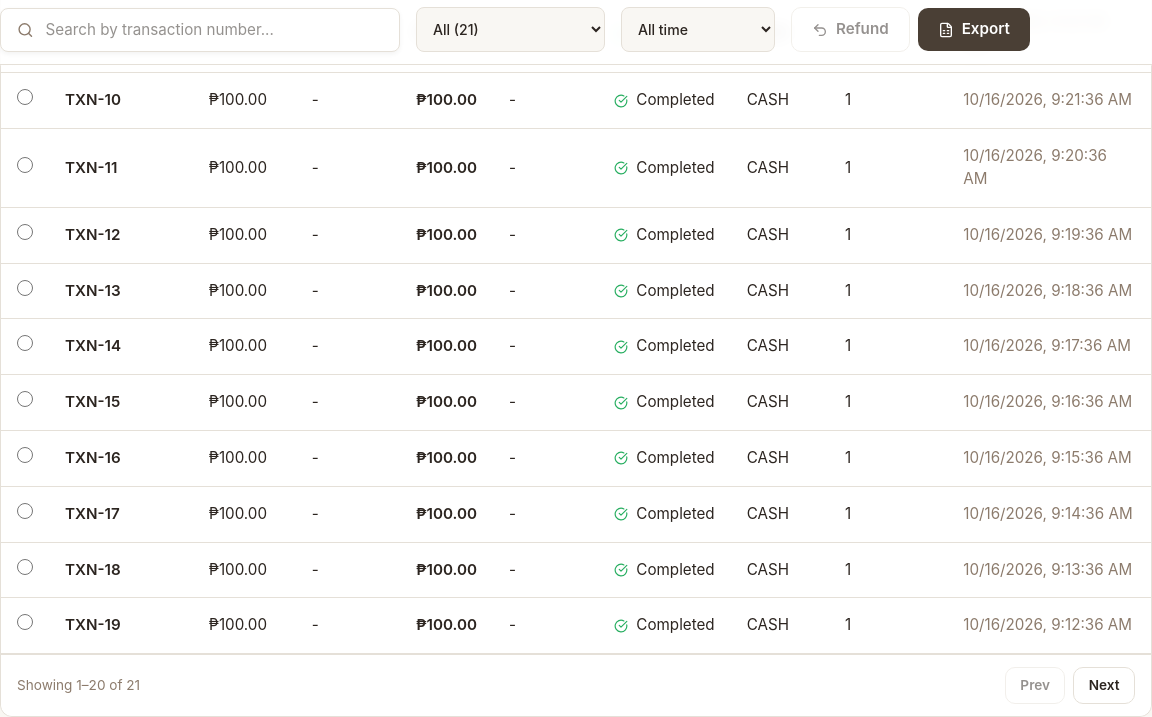
Scenario: OrderHistoryPage refunds › should paginate at twenty rows and reset the page on search
(page scrolled)
Expected: the text with test id "txn-pager-count" reads "Showing 1–20 of 21", [17,675,140,696]
Expected: the button with test id "txn-prev" is disabled, [1005,667,1065,704]
Click the button with test id "txn-next".
click(1104, 686)  # box [1073,667,1135,704]
(page scrolled)
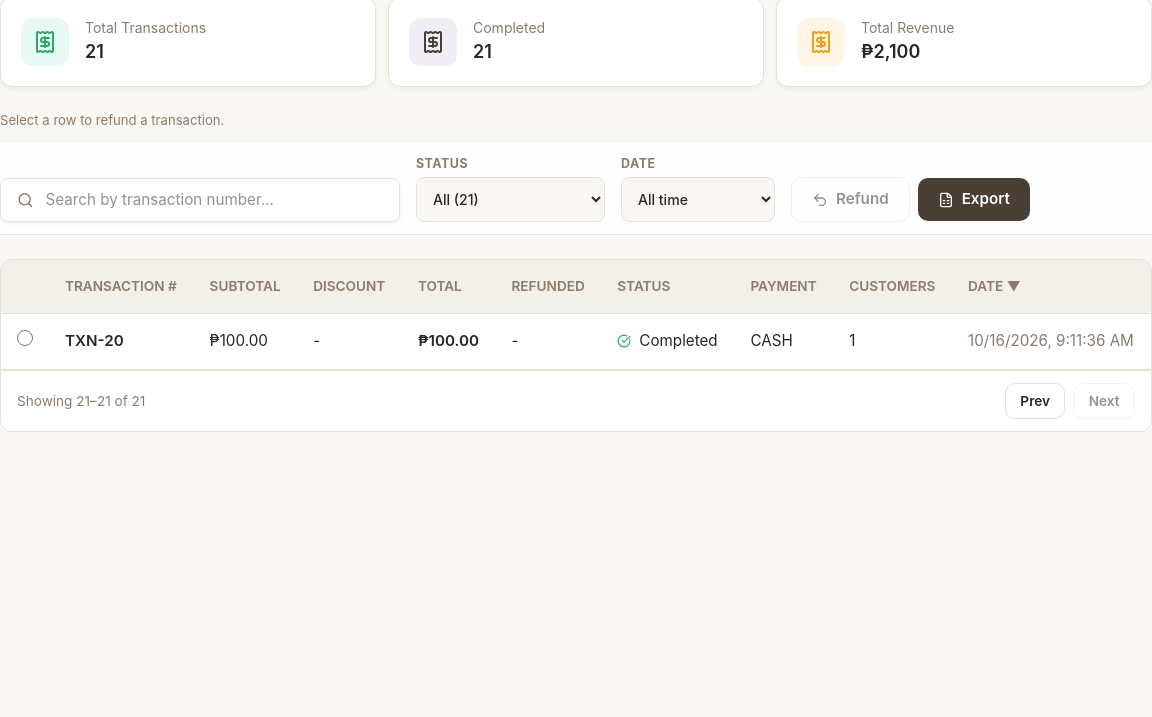
Expected: the text with test id "txn-pager-count" reads "Showing 21–21 of 21", [17,391,145,411]
Expected: the row with test id "order-row-x20" is shown, [1,313,1151,369]
# Selection by id works on page two.
Click the radio button with test id "select-order-x20".
click(25, 338)  # box [17,330,33,346]
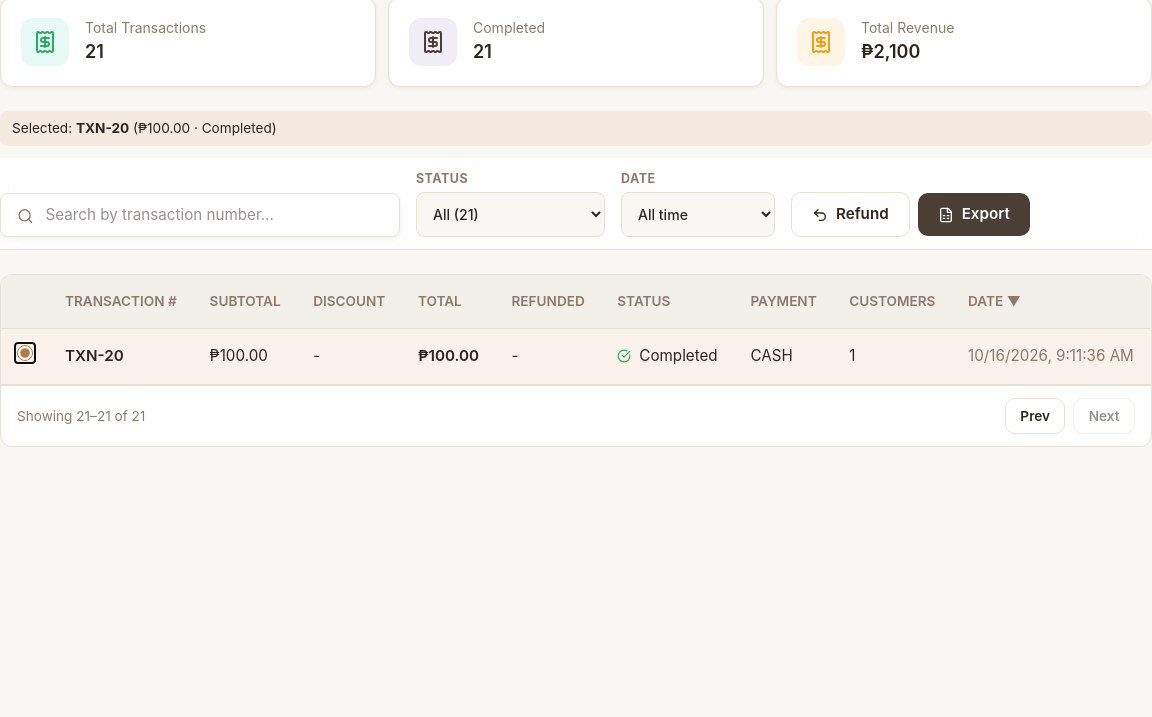
Expected: the button with test id "toolbar-refund-btn" is enabled, [791,192,910,238]
# A new search restarts at page one.
Type "TXN-1" into the field with placeholder "Search by transaction number...".
click(214, 216); type("TXN-1")  # box [46,204,383,227]
(page scrolled)
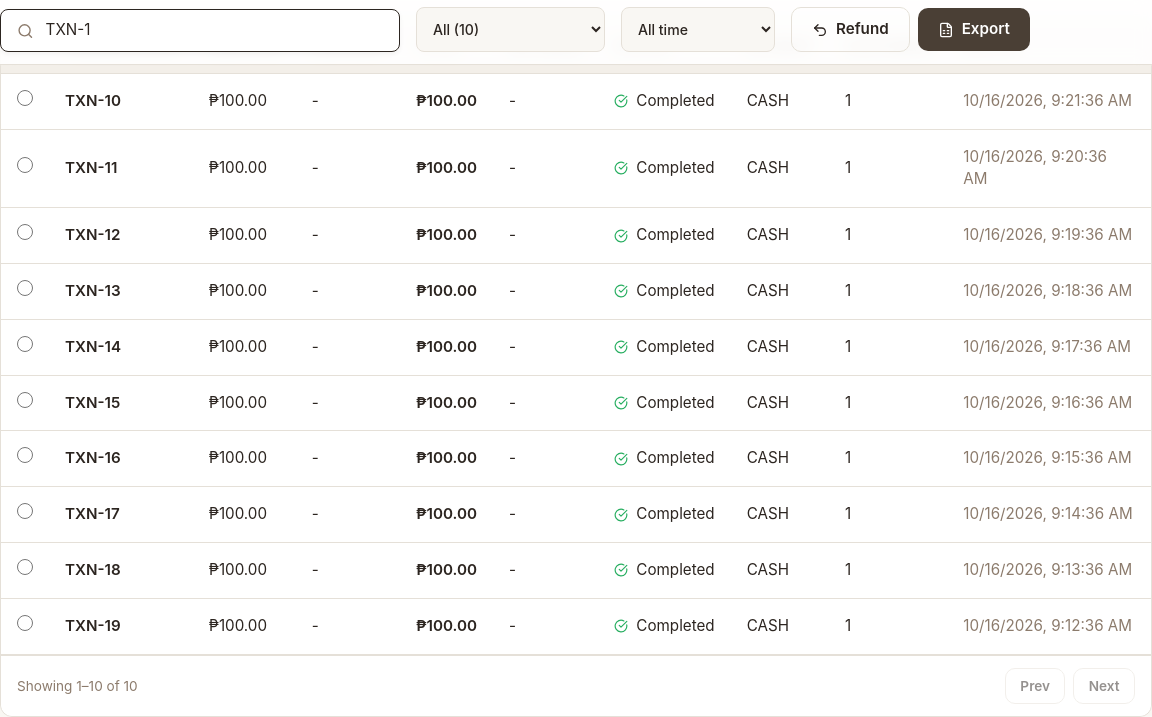
Expected: the text with test id "txn-pager-count" reads "Showing 1–10 of 10", [17,676,138,696]
